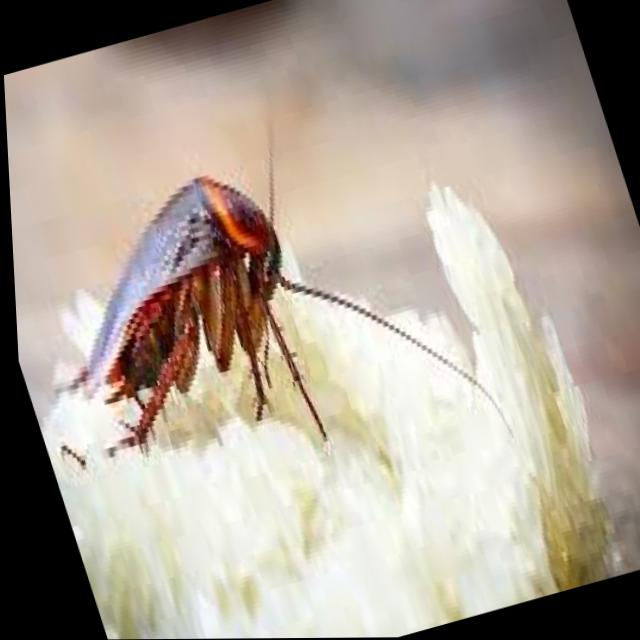Cockroach: (1, 26, 530, 550)
